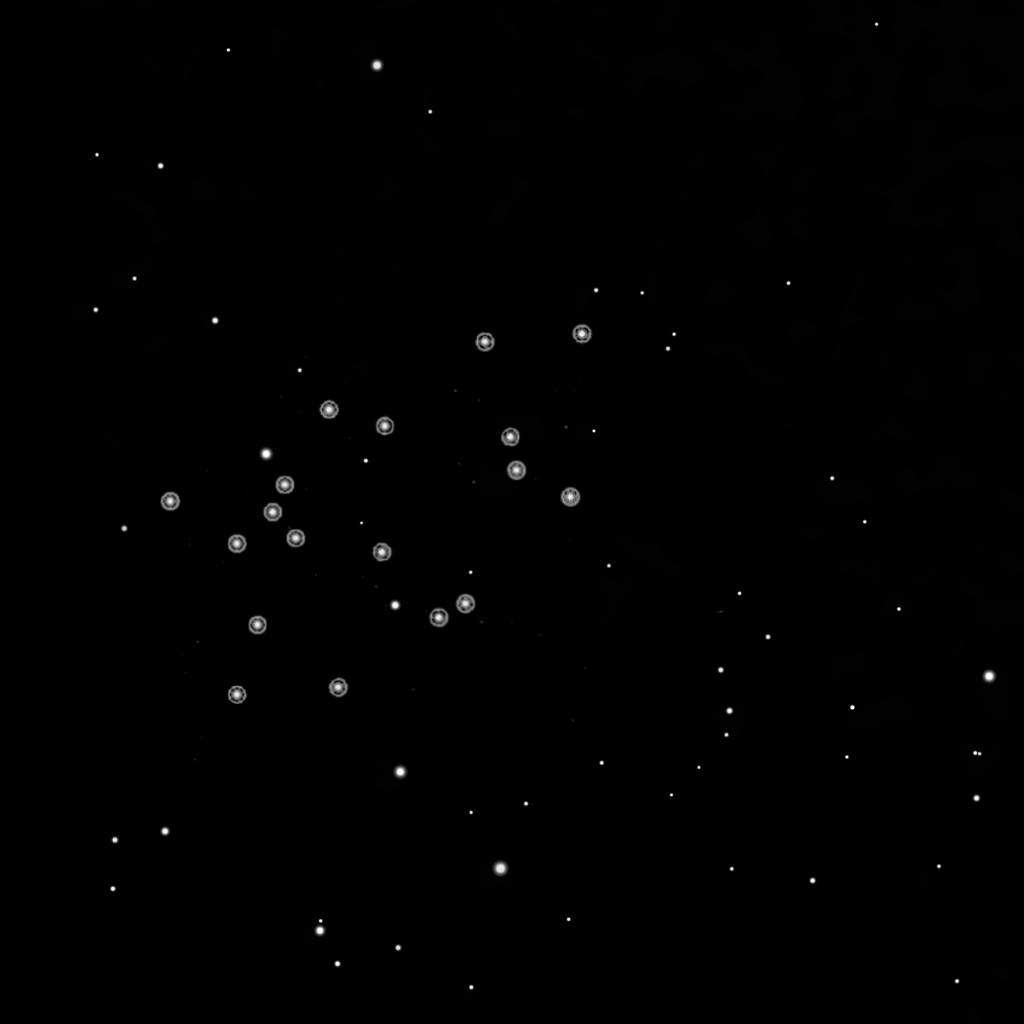canis_major: (218, 393, 402, 562)
